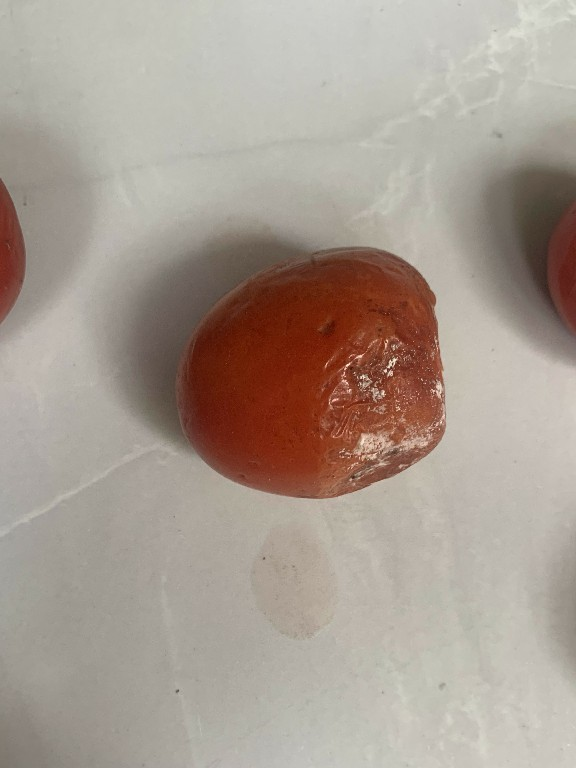NG: (170, 224, 458, 520)
